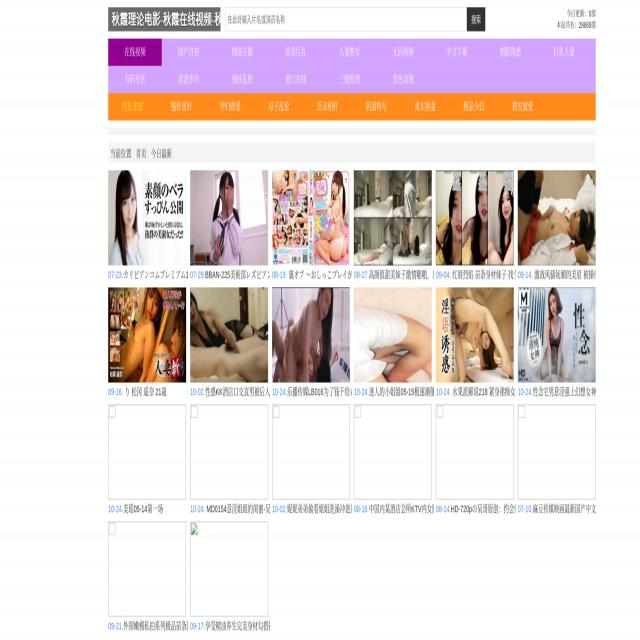button: (108, 171, 186, 266), (190, 171, 268, 266), (272, 171, 350, 266), (354, 171, 432, 266), (436, 171, 514, 266), (108, 288, 186, 383), (190, 288, 268, 383), (272, 288, 350, 383), (354, 288, 432, 383), (436, 288, 514, 383), (108, 405, 186, 500), (190, 405, 268, 500), (272, 405, 350, 500), (354, 405, 432, 500), (436, 405, 514, 500), (108, 521, 186, 616), (190, 522, 268, 616), (518, 171, 595, 266), (518, 288, 595, 383), (518, 405, 595, 500), (108, 7, 220, 31), (483, 38, 537, 66), (108, 38, 162, 66), (162, 38, 216, 66), (215, 38, 269, 66), (269, 38, 323, 66), (376, 38, 430, 66), (430, 38, 484, 66), (323, 38, 376, 66), (108, 66, 162, 93), (162, 66, 216, 93), (215, 66, 269, 93), (269, 66, 323, 93), (376, 66, 430, 93), (323, 66, 376, 93), (538, 40, 591, 66), (498, 93, 547, 120), (108, 93, 157, 120), (303, 93, 352, 120), (157, 93, 205, 120), (206, 93, 254, 120), (255, 93, 303, 120), (352, 93, 400, 120), (401, 93, 449, 120), (450, 93, 498, 120), (467, 7, 485, 32)
field: (225, 7, 467, 32)
